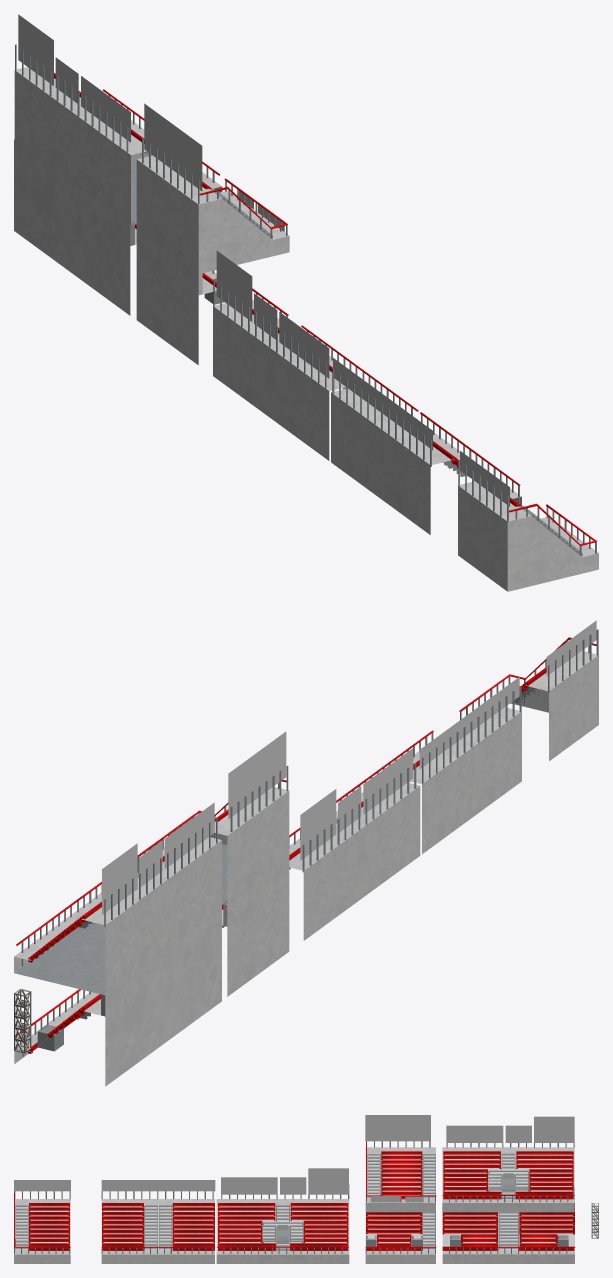
Rendered from CrowdStands_Polished.fbx.
3 views of the same model, one above another, from view 1: azimuth 30°, elevation 25°; view 2: azimuth 150°, elevation 25°; view 3: azimuth 270°, elevation 25° (orthographic). The views are drawn at different scales.
Parts seen in each view (by area): view 1: CrowdStandMid_Stairs.064, Rail.013, CrowdStandMid_Stairs.068, Stairs.001, CrowdStands_Edge; view 2: CrowdStandMid_Stairs.064, Rail.013, CrowdStandMid_Stairs.068, Stairs.001, CrowdStands_Edge, FinishLineBeam.003; view 3: CrowdStandMid_Stairs.064, CrowdStandMid_Stairs.068, Rail.013, Stairs.001, CrowdStands_Edge, FinishLineBeam.003.
Part boxes in pixels (left/top/right/bottom): CrowdStandMid_Stairs.064: left=14, top=14, right=222, bottom=315; Rail.013: left=136, top=103, right=289, bottom=365; CrowdStandMid_Stairs.068: left=213, top=250, right=418, bottom=460; Stairs.001: left=331, top=358, right=521, bottom=534; CrowdStands_Edge: left=458, top=451, right=598, bottom=591; CrowdStandMid_Stairs.064: left=14, top=802, right=221, bottom=1086; Rail.013: left=137, top=731, right=289, bottom=996; CrowdStandMid_Stairs.068: left=289, top=748, right=420, bottom=940; Stairs.001: left=336, top=677, right=521, bottom=854; CrowdStands_Edge: left=459, top=620, right=598, bottom=761; FinishLineBeam.003: left=14, top=989, right=31, bottom=1053; CrowdStandMid_Stairs.064: left=442, top=1116, right=575, bottom=1263; CrowdStandMid_Stairs.068: left=216, top=1168, right=349, bottom=1263; Rail.013: left=365, top=1115, right=436, bottom=1263; Stairs.001: left=101, top=1180, right=215, bottom=1263; CrowdStands_Edge: left=14, top=1180, right=70, bottom=1263; FinishLineBeam.003: left=591, top=1203, right=598, bottom=1238.
Bounding box in the file's own units: 15738 × 35982 × 153159.
